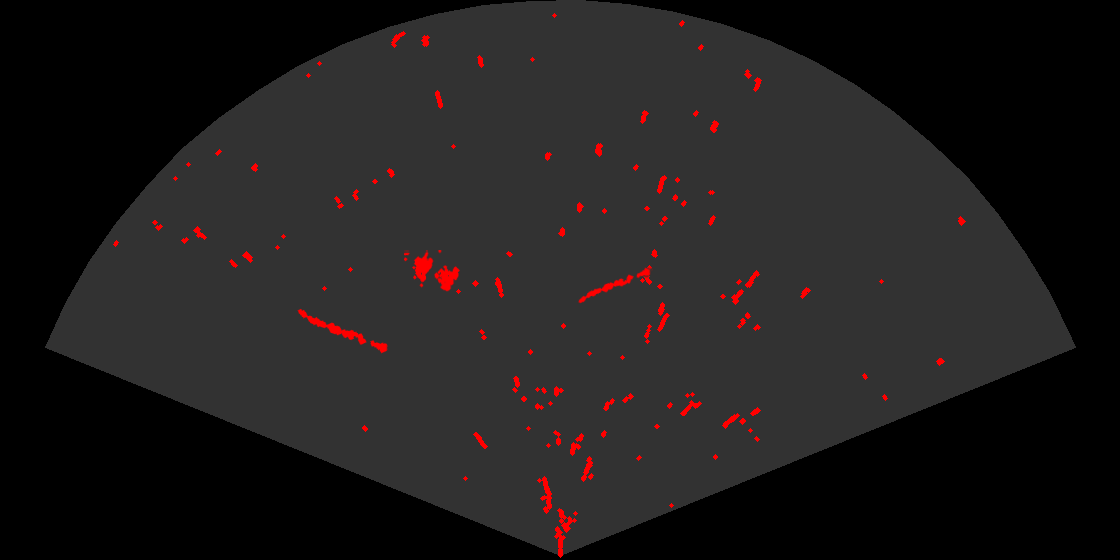cage: (404, 250, 461, 293)
chain: (296, 307, 390, 355), (577, 266, 653, 305)
